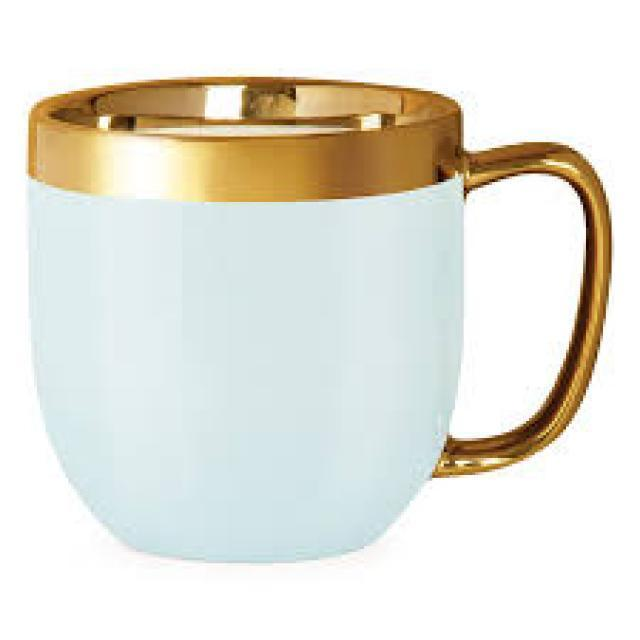taza: (24, 63, 625, 574)
